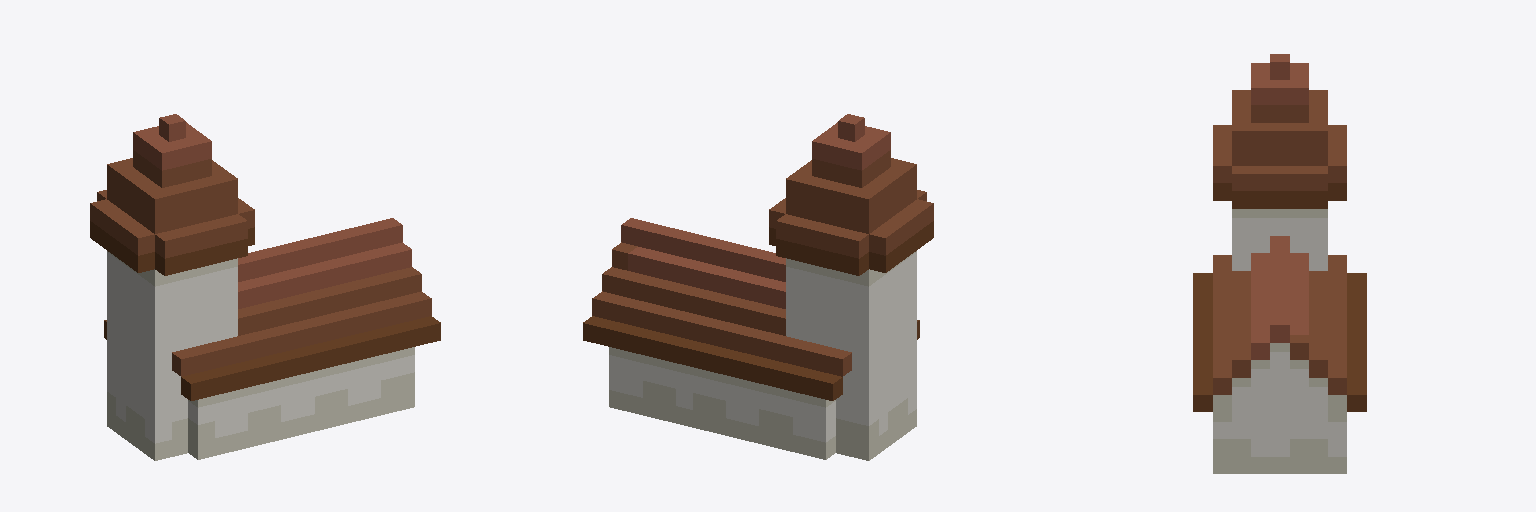
The picture shows the model from 3 angles: view 1: azimuth 30°, elevation 25°; view 2: azimuth 150°, elevation 25°; view 3: azimuth 270°, elevation 25°; orthographic projection.
Parts seen in each view (by area): view 1: Matrix; view 2: Matrix; view 3: Matrix.
Part boxes in pixels (left/top/right/bottom): Matrix: left=90, top=114, right=440, bottom=460; Matrix: left=583, top=114, right=933, bottom=460; Matrix: left=1193, top=54, right=1366, bottom=473.
Bounding box in the file's own units: 17 × 18 × 9.
1 materials, 1 textured.